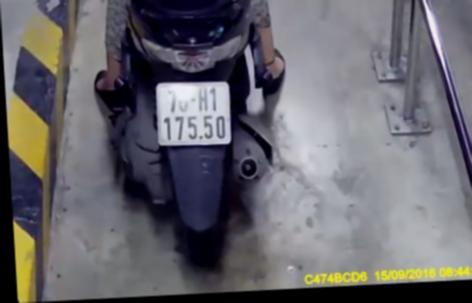License_Plate: (147, 74, 236, 156)
